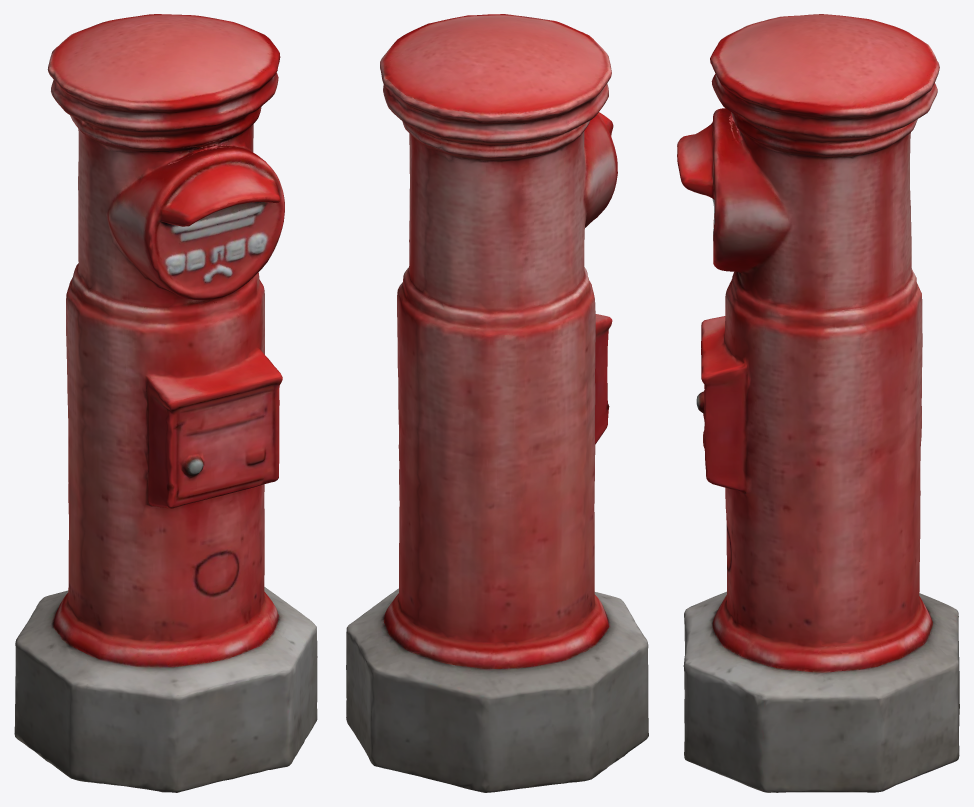
3 renders of one model, left to right at view 1: azimuth 30°, elevation 25°; view 2: azimuth 150°, elevation 25°; view 3: azimuth 270°, elevation 25°, orthographic.
Visible parts, largest first — view 1: Mesh_0; view 2: Mesh_0; view 3: Mesh_0.
Part boxes in pixels (x1=…): Mesh_0: x1=14, y1=14, x2=317, y2=792; Mesh_0: x1=346, y1=14, x2=648, y2=792; Mesh_0: x1=677, y1=14, x2=959, y2=792.
Size of the model in its own units: 0.4599 by 1.23 by 0.4541.
Materials: 1 (1 with a texture image).
